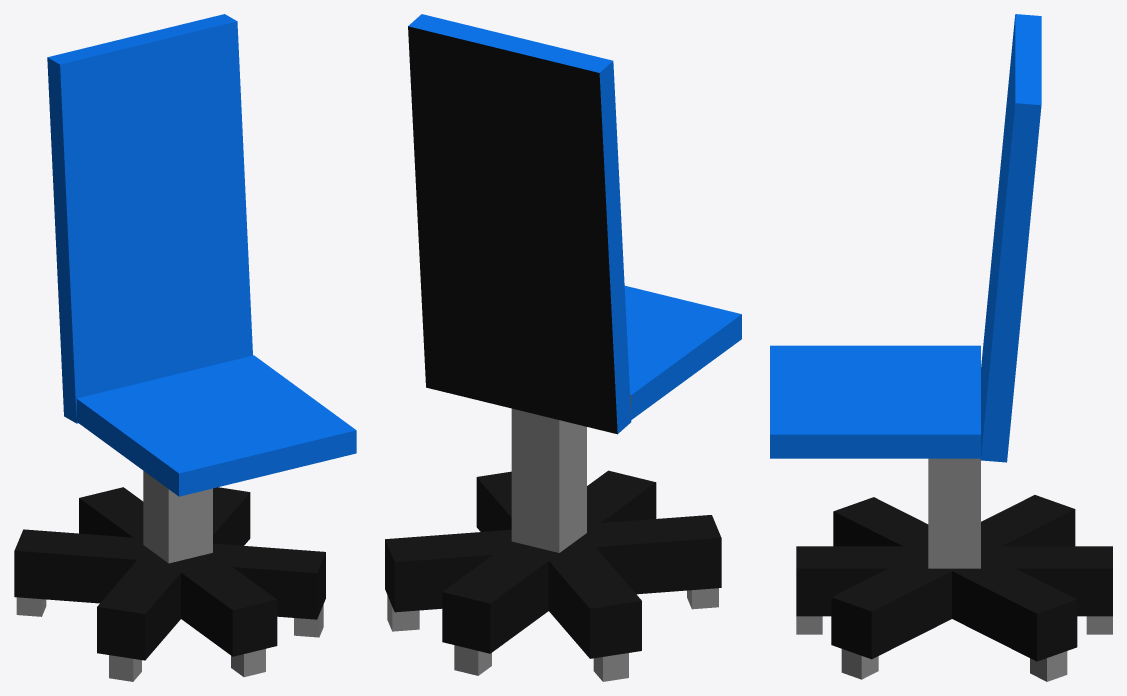
Rendered from Chair.gltf.
3 renders of one model, left to right at view 1: azimuth 30°, elevation 25°; view 2: azimuth 150°, elevation 25°; view 3: azimuth 270°, elevation 25°, orthographic. The views are drawn at different scales.
Visible parts, largest first — view 1: aa98a950-a05a-e1a4-6a08-87a9439caf97, c4214b1d-3af2-f034-aca9-a2c1cb04b706, 3cbc6d07-afc2-8106-9162-0c8fea463f30, 48367b46-2975-ce89-eee0-241475c1dbac, 2445ab58-6f03-2560-309a-e94ce6f22fa4, 5e1e08ef-9e13-0d3c-969f-77c95c21991e, da9332b8-fcd3-b9a3-93df-3e98a0545f85, 8e0e0d6f-9855-2d38-862f-d24a12e180e7, 8e11fc6a-2a9b-c510-802d-7dba97dc92e6, c28ef99a-cfa8-b77e-7b3a-16abd78105ff; view 2: aa98a950-a05a-e1a4-6a08-87a9439caf97, 2445ab58-6f03-2560-309a-e94ce6f22fa4, 48367b46-2975-ce89-eee0-241475c1dbac, 3cbc6d07-afc2-8106-9162-0c8fea463f30, 5e1e08ef-9e13-0d3c-969f-77c95c21991e, c4214b1d-3af2-f034-aca9-a2c1cb04b706, e8821589-73a4-1183-24ca-423f8e16e98c, c28ef99a-cfa8-b77e-7b3a-16abd78105ff, e8a8c8c2-063e-5656-1cfc-c0ff0eff87c4, 8e0e0d6f-9855-2d38-862f-d24a12e180e7; view 3: c4214b1d-3af2-f034-aca9-a2c1cb04b706, aa98a950-a05a-e1a4-6a08-87a9439caf97, 2445ab58-6f03-2560-309a-e94ce6f22fa4, 3cbc6d07-afc2-8106-9162-0c8fea463f30, 48367b46-2975-ce89-eee0-241475c1dbac, 5e1e08ef-9e13-0d3c-969f-77c95c21991e, 8e11fc6a-2a9b-c510-802d-7dba97dc92e6, e8a8c8c2-063e-5656-1cfc-c0ff0eff87c4.
Boxes of the visible parts, x1,y1,x2,y2 form: aa98a950-a05a-e1a4-6a08-87a9439caf97: (47,14,252,423); c4214b1d-3af2-f034-aca9-a2c1cb04b706: (76,355,356,496); 3cbc6d07-afc2-8106-9162-0c8fea463f30: (14,529,325,619); 48367b46-2975-ce89-eee0-241475c1dbac: (79,487,277,656); 2445ab58-6f03-2560-309a-e94ce6f22fa4: (97,487,250,660); 5e1e08ef-9e13-0d3c-969f-77c95c21991e: (143,471,212,563); da9332b8-fcd3-b9a3-93df-3e98a0545f85: (231,649,265,677); 8e0e0d6f-9855-2d38-862f-d24a12e180e7: (109,655,141,681); 8e11fc6a-2a9b-c510-802d-7dba97dc92e6: (294,604,323,637); c28ef99a-cfa8-b77e-7b3a-16abd78105ff: (16,597,46,616); aa98a950-a05a-e1a4-6a08-87a9439caf97: (408,14,631,434); 2445ab58-6f03-2560-309a-e94ce6f22fa4: (385,515,721,612); 48367b46-2975-ce89-eee0-241475c1dbac: (442,470,656,653); 3cbc6d07-afc2-8106-9162-0c8fea463f30: (476,471,641,658); 5e1e08ef-9e13-0d3c-969f-77c95c21991e: (511,408,586,552); c4214b1d-3af2-f034-aca9-a2c1cb04b706: (624,285,741,419); e8821589-73a4-1183-24ca-423f8e16e98c: (454,645,491,675); c28ef99a-cfa8-b77e-7b3a-16abd78105ff: (593,653,628,681); e8a8c8c2-063e-5656-1cfc-c0ff0eff87c4: (387,595,419,631); 8e0e0d6f-9855-2d38-862f-d24a12e180e7: (687,588,718,609); c4214b1d-3af2-f034-aca9-a2c1cb04b706: (770,345,980,458); aa98a950-a05a-e1a4-6a08-87a9439caf97: (980,14,1041,462); 2445ab58-6f03-2560-309a-e94ce6f22fa4: (833,497,1077,661); 3cbc6d07-afc2-8106-9162-0c8fea463f30: (831,495,1075,659); 48367b46-2975-ce89-eee0-241475c1dbac: (796,546,1112,616); 5e1e08ef-9e13-0d3c-969f-77c95c21991e: (928,458,980,568); 8e11fc6a-2a9b-c510-802d-7dba97dc92e6: (841,649,878,679); e8a8c8c2-063e-5656-1cfc-c0ff0eff87c4: (1030,651,1067,681).
Bounding box in the file's own units: 0.0668 × 0.1492 × 0.0812.
3 materials, 3 textured.
